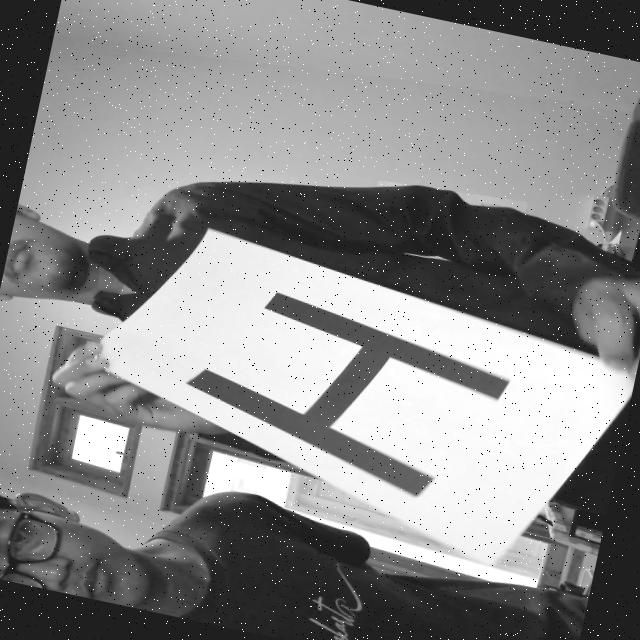h: (166, 264, 545, 520)
